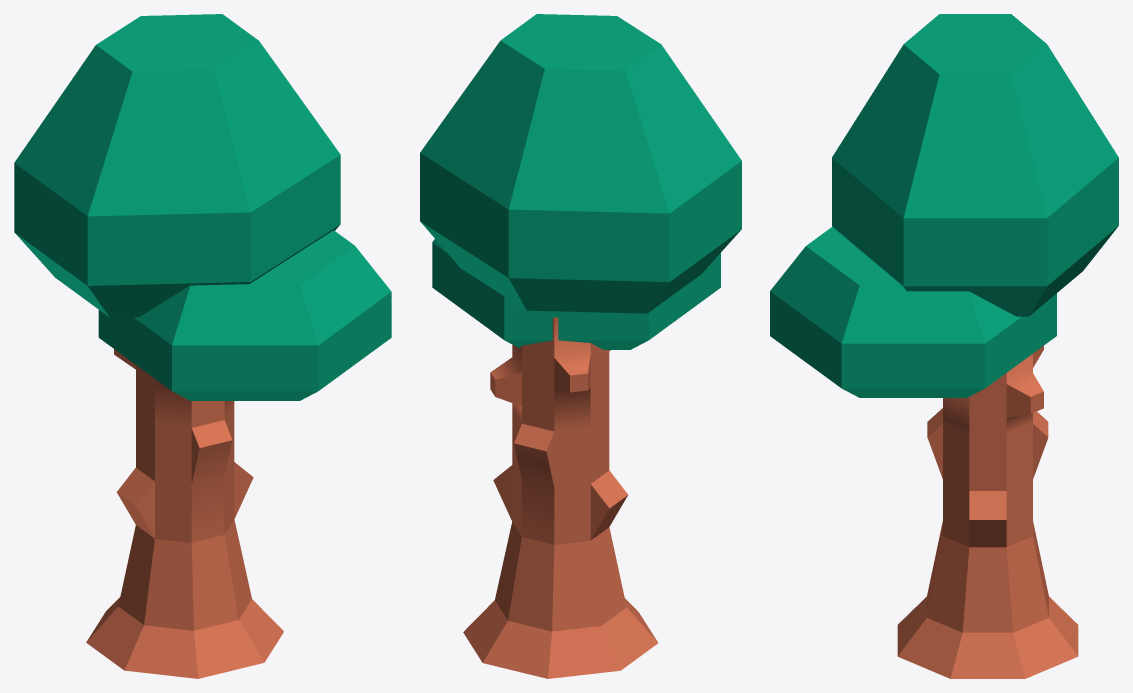
The model's file is TreeFive.fbx.
3 views of the same model, side by side, from view 1: azimuth 30°, elevation 25°; view 2: azimuth 150°, elevation 25°; view 3: azimuth 270°, elevation 25° (orthographic). The views are drawn at different scales.
Visible parts, largest first — view 1: mergedBlocks; view 2: mergedBlocks; view 3: mergedBlocks.
Boxes of the visible parts, <box> form: mergedBlocks: <box>14,14,391,678</box>; mergedBlocks: <box>420,14,741,678</box>; mergedBlocks: <box>770,14,1118,678</box>.
Bounding box in the file's own units: 12.4 × 26.2 × 14.05.
